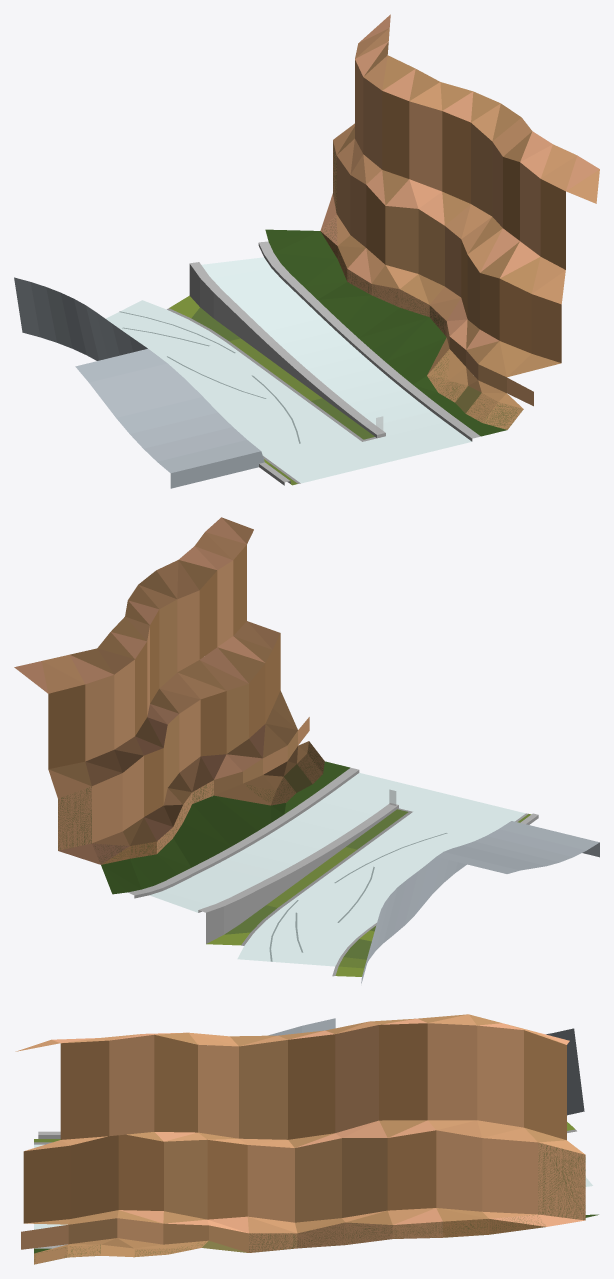
3 renders of one model, top to bottom at view 1: azimuth 30°, elevation 25°; view 2: azimuth 150°, elevation 25°; view 3: azimuth 270°, elevation 25°, orthographic. The views are drawn at different scales.
Parts seen in each view (by area): view 1: O18457; view 2: O18457; view 3: O18457.
Part boxes in pixels (left/top/right/bottom): O18457: left=14, top=14, right=599, bottom=488; O18457: left=14, top=517, right=599, bottom=983; O18457: left=15, top=1014, right=598, bottom=1264.
Bounding box in the file's own units: 139 × 76 × 140.
